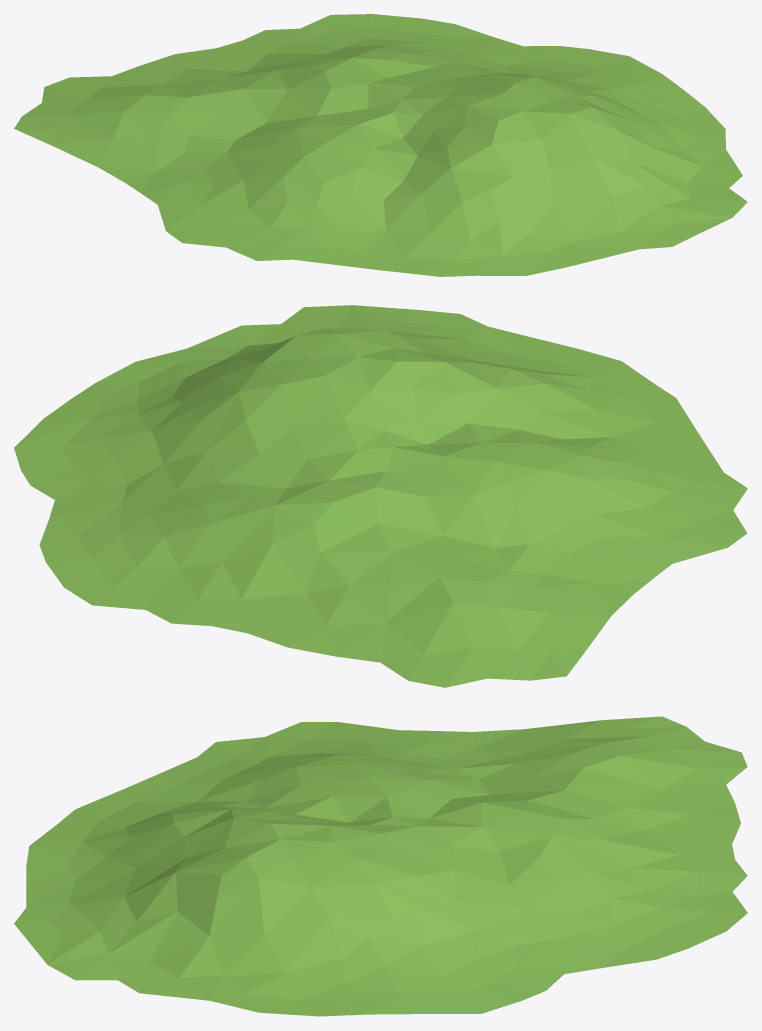
File: MT_Mountain_M_a_07_LOD.fbx
3 renders of one model, top to bottom at view 1: azimuth 30°, elevation 25°; view 2: azimuth 150°, elevation 25°; view 3: azimuth 270°, elevation 25°, orthographic. The views are drawn at different scales.
Visible parts, largest first — view 1: MT_Mountain_M_a_07_LOD0; view 2: MT_Mountain_M_a_07_LOD0; view 3: MT_Mountain_M_a_07_LOD0.
Boxes of the visible parts, box(x1,y1,x2,y2) form: MT_Mountain_M_a_07_LOD0: box(14, 14, 747, 276); MT_Mountain_M_a_07_LOD0: box(14, 305, 747, 687); MT_Mountain_M_a_07_LOD0: box(14, 716, 747, 1016).
Size of what is drawn, in the model's own units: 4531 by 468 by 4688.
